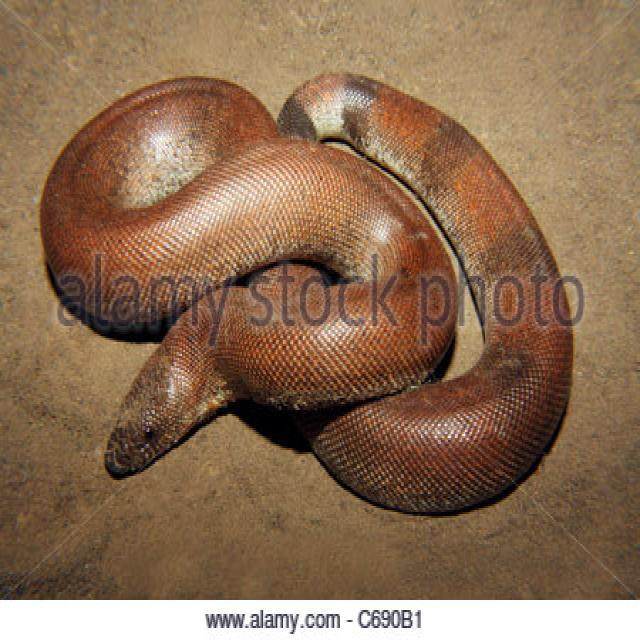Snake: (37, 68, 575, 516)
